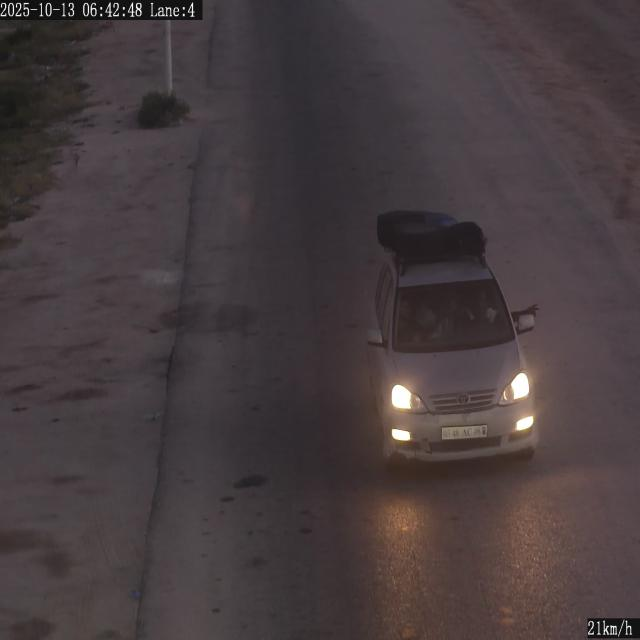BUS: (442, 425, 487, 440)
